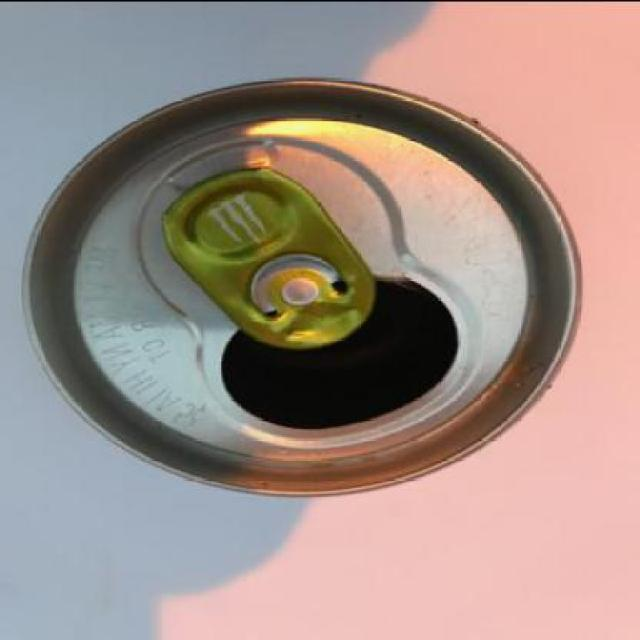METAL: (27, 77, 585, 498)
